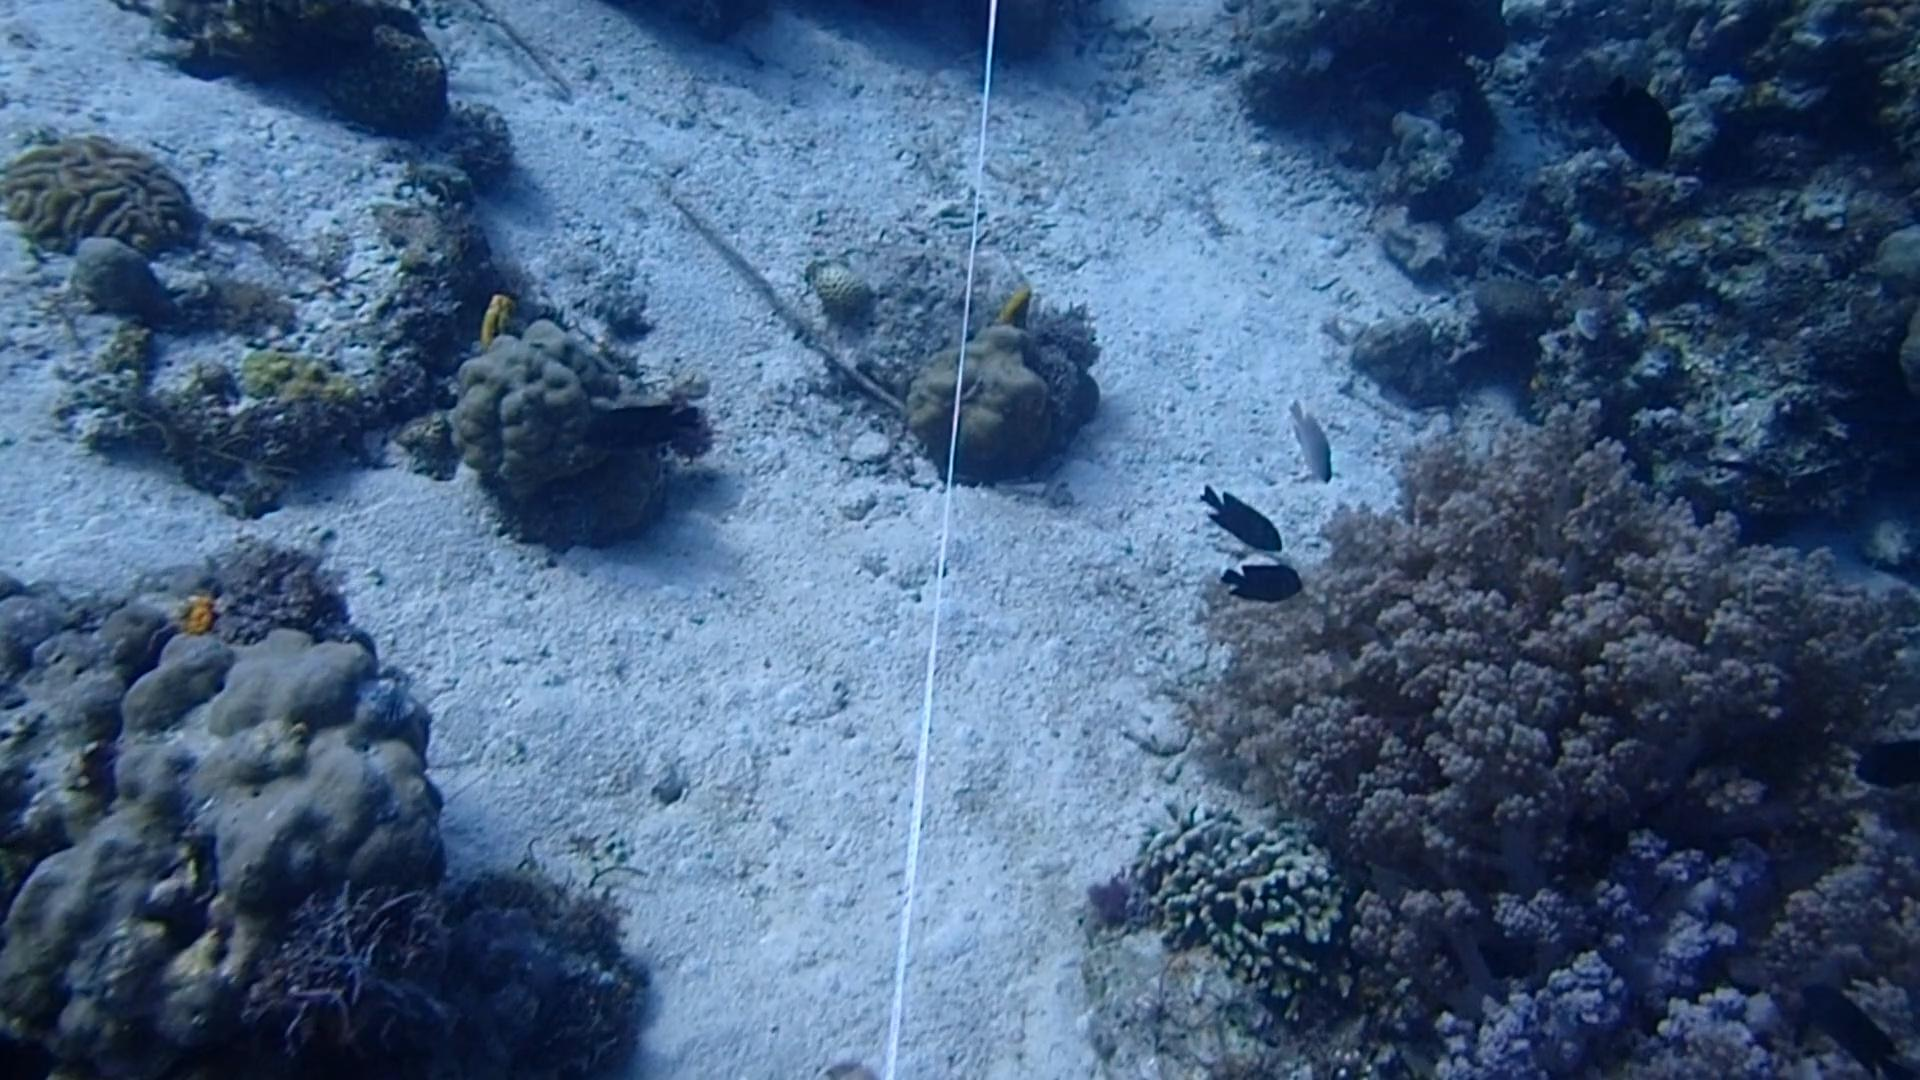Dark Fish: (1771, 973, 1919, 1076), (1593, 63, 1691, 167), (1191, 479, 1294, 568), (1205, 549, 1316, 624), (576, 394, 708, 455), (1855, 736, 1920, 799)
Light Fish: (1275, 390, 1356, 505)
